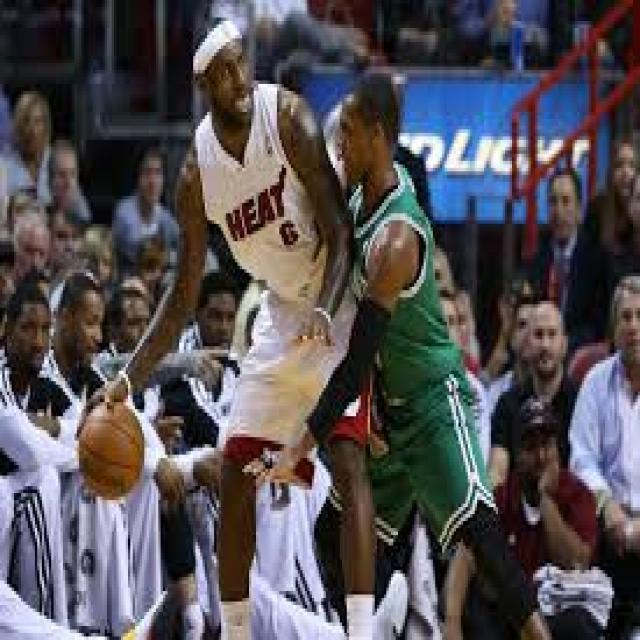rim: (79, 398, 147, 496)
